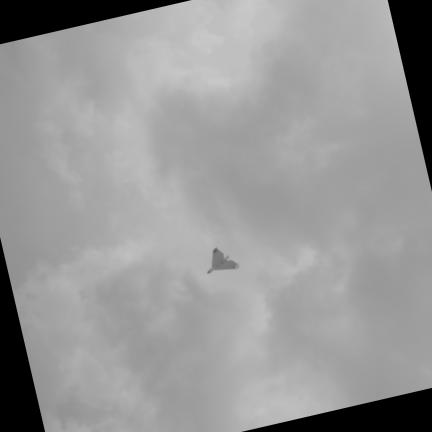Shahed: (207, 248, 237, 273)
